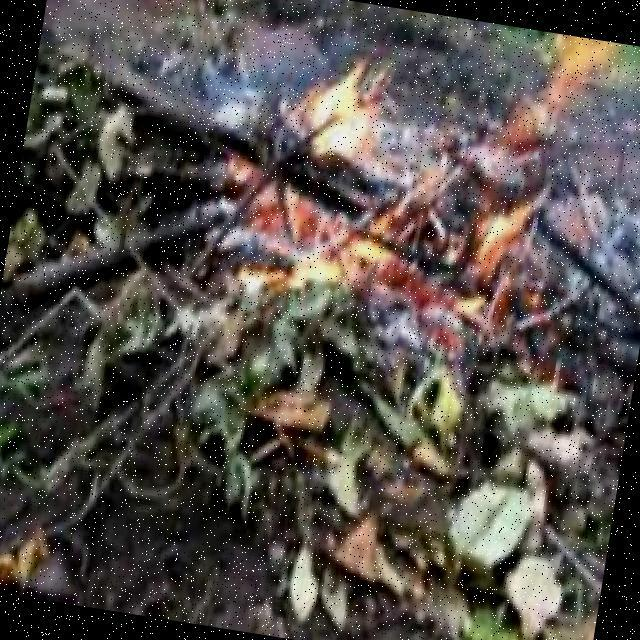Fire: (214, 37, 588, 345)
